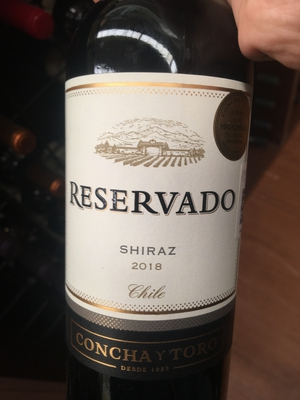reservado shiraz: (61, 20, 252, 394)
